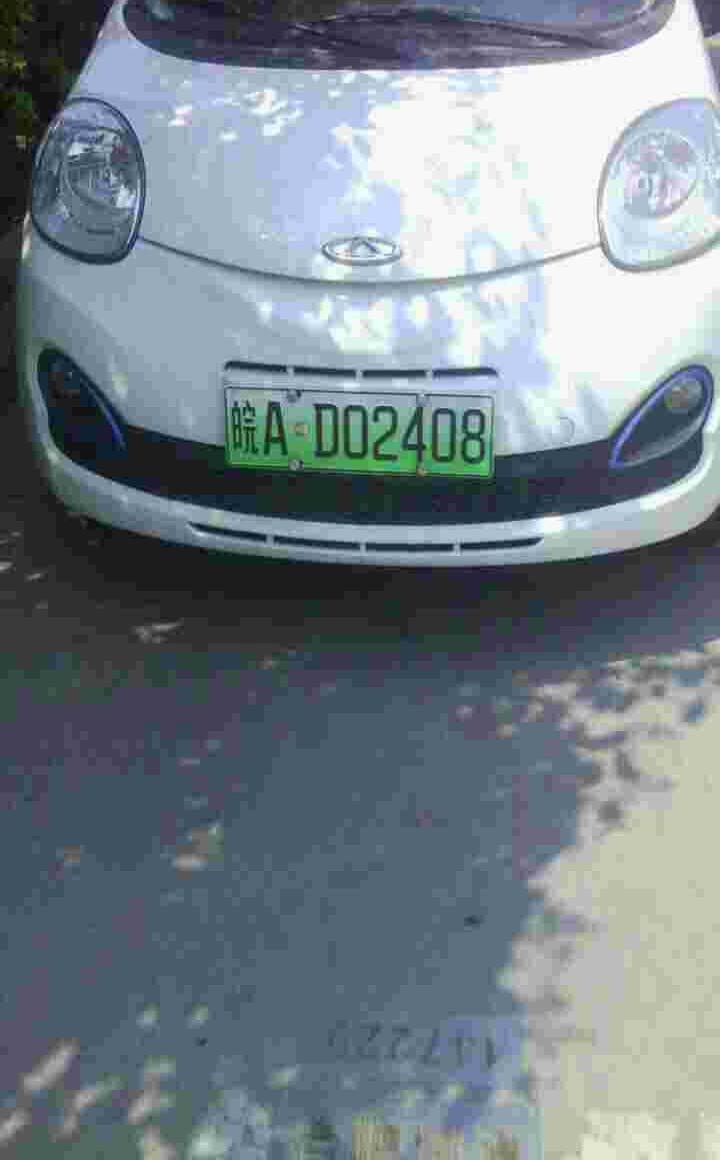car: (220, 378, 498, 486)
